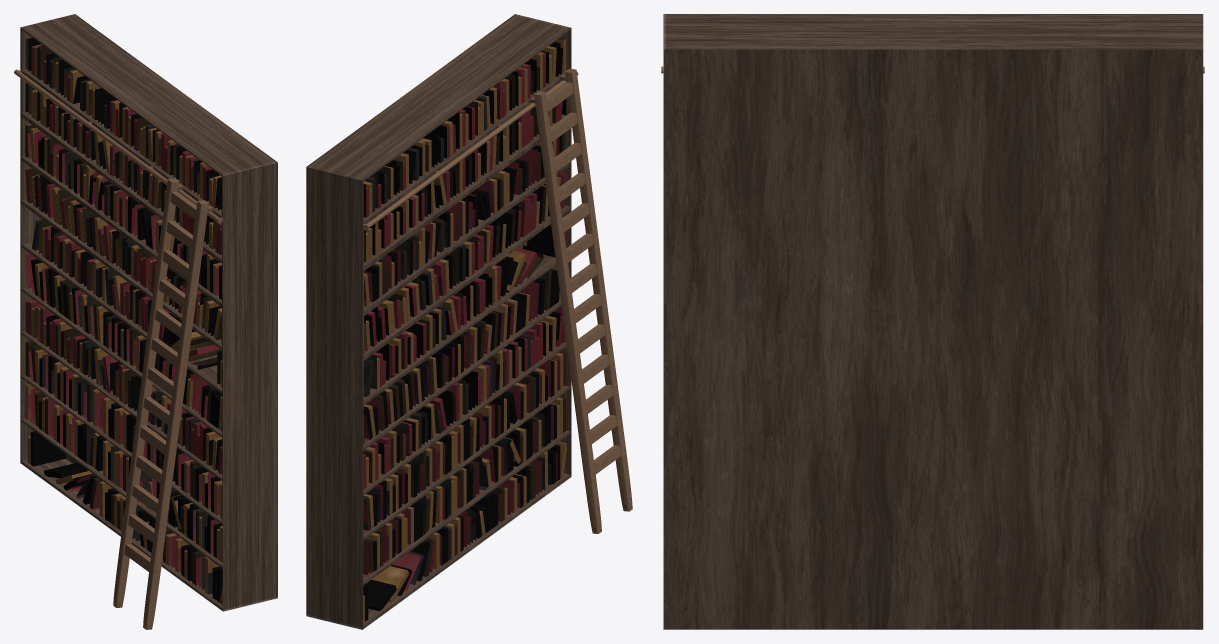
File: bibliotheque_antique__antique_library.glb
3 views of the same model, side by side, from view 1: azimuth 30°, elevation 25°; view 2: azimuth 150°, elevation 25°; view 3: azimuth 270°, elevation 25° (orthographic). The views are drawn at different scales.
Parts seen in each view (by area): view 1: bibli_3, livre04_9, livre02_8, echelle_7, livre07_12, Cube.341_6, Cube.266_5, Cube.232_4, livre06_11, barre_2; view 2: bibli_3, livre02_8, livre04_9, echelle_7, livre07_12, Cube.341_6, Cube.266_5, Cube.232_4, livre06_11, barre_2; view 3: bibli_3.
Part boxes in pixels (box(x1,y1,x2,y2)): bibli_3: box(20, 14, 277, 611); livre04_9: box(25, 44, 264, 604); livre02_8: box(25, 38, 222, 602); echelle_7: box(113, 178, 214, 629); livre07_12: box(25, 44, 222, 572); Cube.341_6: box(25, 37, 222, 585); Cube.266_5: box(25, 102, 221, 587); Cube.232_4: box(32, 46, 212, 594); livre06_11: box(31, 67, 221, 552); barre_2: box(14, 69, 222, 223); bibli_3: box(306, 14, 571, 629); livre02_8: box(363, 42, 566, 621); livre04_9: box(363, 39, 566, 622); echelle_7: box(528, 68, 632, 533); livre07_12: box(363, 52, 566, 590); Cube.341_6: box(363, 37, 566, 576); Cube.266_5: box(363, 81, 566, 575); Cube.232_4: box(363, 95, 551, 584); livre06_11: box(363, 135, 562, 553); barre_2: box(362, 71, 578, 229); bibli_3: box(663, 14, 1203, 629).
Bounding box in the file's own units: 0.8661 × 3 × 2.49.
Materials: 9 (9 with a texture image).
